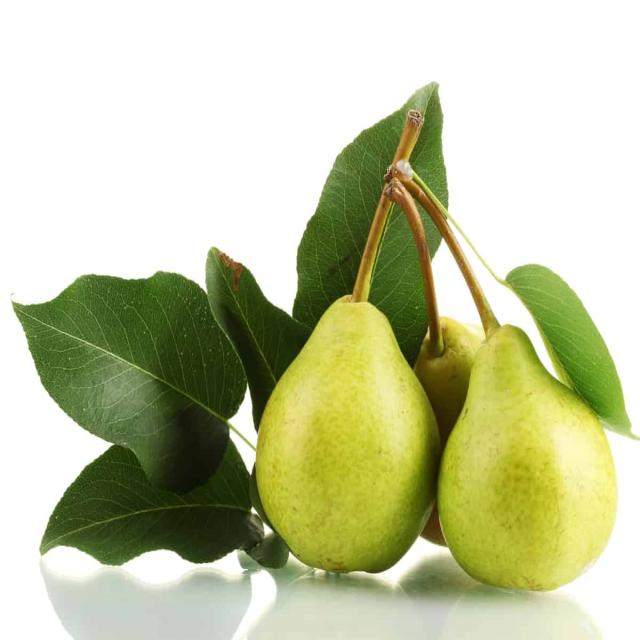Pear: (233, 230, 437, 579), (434, 285, 620, 591), (414, 314, 480, 424)
